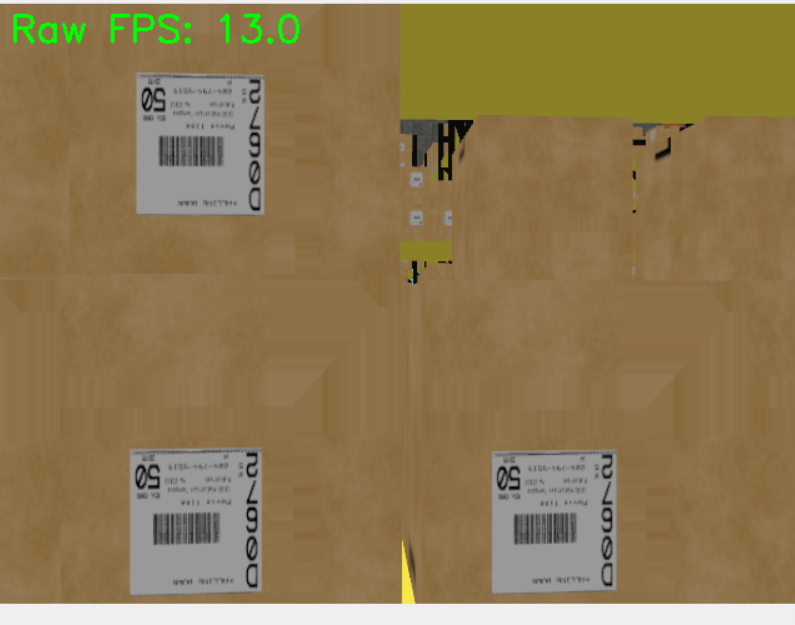barcode: (128, 447, 263, 593), (135, 72, 266, 215), (491, 449, 619, 592)
